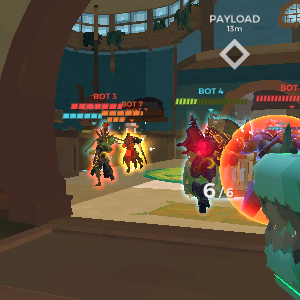model: (87, 127, 116, 192), (118, 130, 146, 184)
